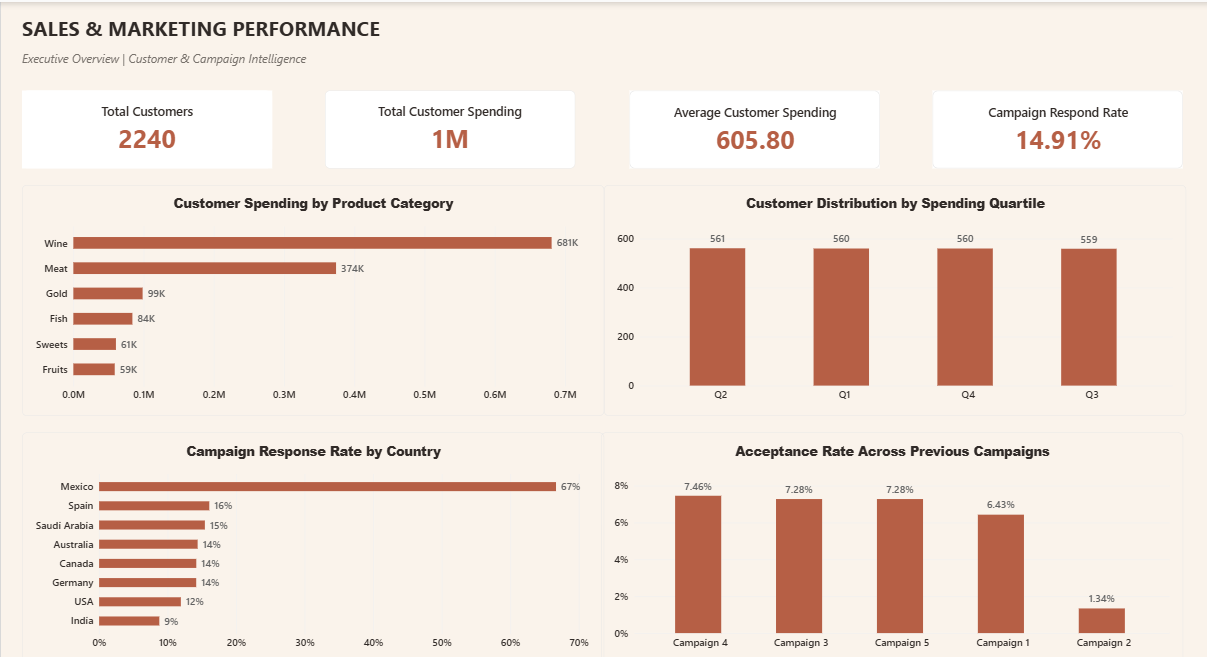

The page's visual inventory and layout, read from the dashboard file:
{"tool":"powerbi","page":{"name":"Executive Overview","canvas":[1920,1080],"ordinal":0},"visuals":[{"type":"textbox","box":[33.4,19.1,596.5,57.3],"z":0},{"type":"textbox","box":[33.4,76.3,622.7,64.4],"z":1000},{"type":"cardVisual","fields":{"Data":["Customers.Total Customers"]},"box":[33.4,140.8,398.1,124.1],"z":2000},{"type":"cardVisual","fields":{"Data":["Marketing Performance.Total Customer Spending"]},"box":[516.3,140.8,398.1,124.1],"z":3000},{"type":"cardVisual","fields":{"Data":["Marketing Performance.Average Customer Spending"]},"box":[999.1,140.8,398.1,124.1],"z":4000},{"type":"cardVisual","fields":{"Data":["Marketing Performance.Campaign Respond Rate"]},"box":[1482,140.8,398.1,124.1],"z":5000},{"type":"clusteredBarChart","title":"Customer Spending by Product Category","fields":{"Category":["Product Categories.Products"],"Y":["Customers.Product Category Spending"]},"box":[33.4,291.1,925.7,367.4],"z":6000},{"type":"clusteredColumnChart","title":"Customer Distribution by Spending Quartile","fields":{"Category":["Marketing Performance.Spending Quartile"],"Y":["Customers.Total Customers"]},"box":[959.1,291.1,925.7,367.4],"z":7000},{"type":"clusteredBarChart","title":"Campaign Response Rate by Country","fields":{"Category":["Customers.country"],"Y":["Marketing Performance.Campaign Respond Rate"]},"box":[33.4,684.8,925.7,367.4],"z":8000},{"type":"clusteredColumnChart","title":"Acceptance Rate Across Previous Campaigns","fields":{"Category":["Campaigns.Campaign"],"Y":["Marketing Performance.Campaign Acceptance Rate"]},"box":[954.4,684.8,925.7,367.4],"z":9000}]}

Visuals, with their boxes on the page's 1920x1080 design canvas (x1, y1, x2, y2). These are canvas units, not pixel positions in the 1207x657 screenshot, which may show the page scaled, cropped or inside an application window:
textbox: <region>33, 19, 630, 76</region>
textbox: <region>33, 76, 656, 141</region>
cardVisual - Customers.Total Customers: <region>33, 141, 432, 265</region>
cardVisual - Marketing Performance.Total Customer Spending: <region>516, 141, 914, 265</region>
cardVisual - Marketing Performance.Average Customer Spending: <region>999, 141, 1397, 265</region>
cardVisual - Marketing Performance.Campaign Respond Rate: <region>1482, 141, 1880, 265</region>
"Customer Spending by Product Category" clusteredBarChart: <region>33, 291, 959, 658</region>
"Customer Distribution by Spending Quartile" clusteredColumnChart: <region>959, 291, 1885, 658</region>
"Campaign Response Rate by Country" clusteredBarChart: <region>33, 685, 959, 1052</region>
"Acceptance Rate Across Previous Campaigns" clusteredColumnChart: <region>954, 685, 1880, 1052</region>
